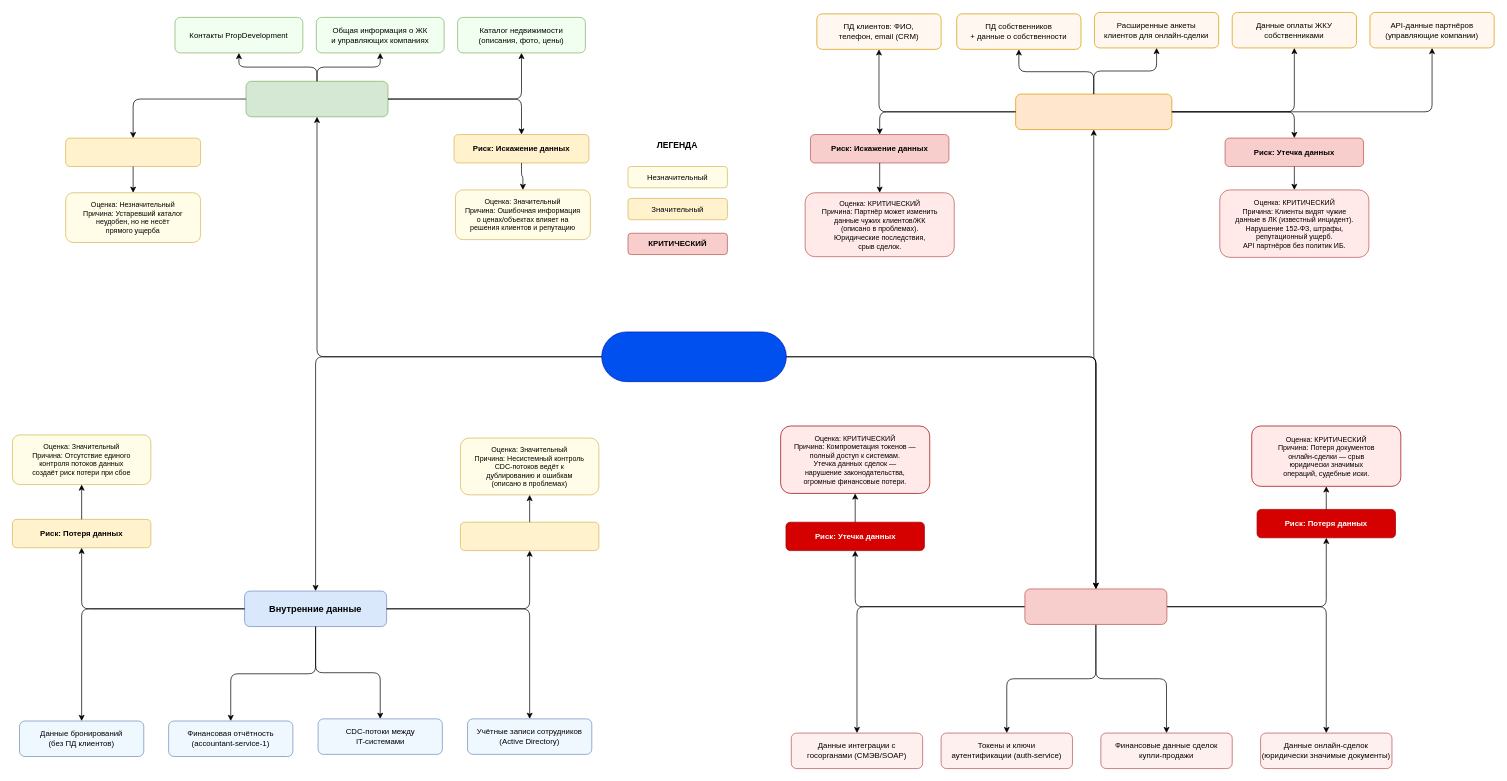
Image size: 1507x781. Some labels were removed from this diagram. The box of each missing label's shape, as (x1, y1, x2, y2) in pixels:
Безопасность данных: (601, 331, 786, 382)
Конфиденциальные данные: (1015, 93, 1172, 130)
Публичные данные: (245, 81, 388, 117)
Риск: Некачественные данные: (460, 521, 599, 551)
Риск: Обесценивание данных: (65, 137, 201, 166)
Секретные данные: (1024, 588, 1167, 624)
